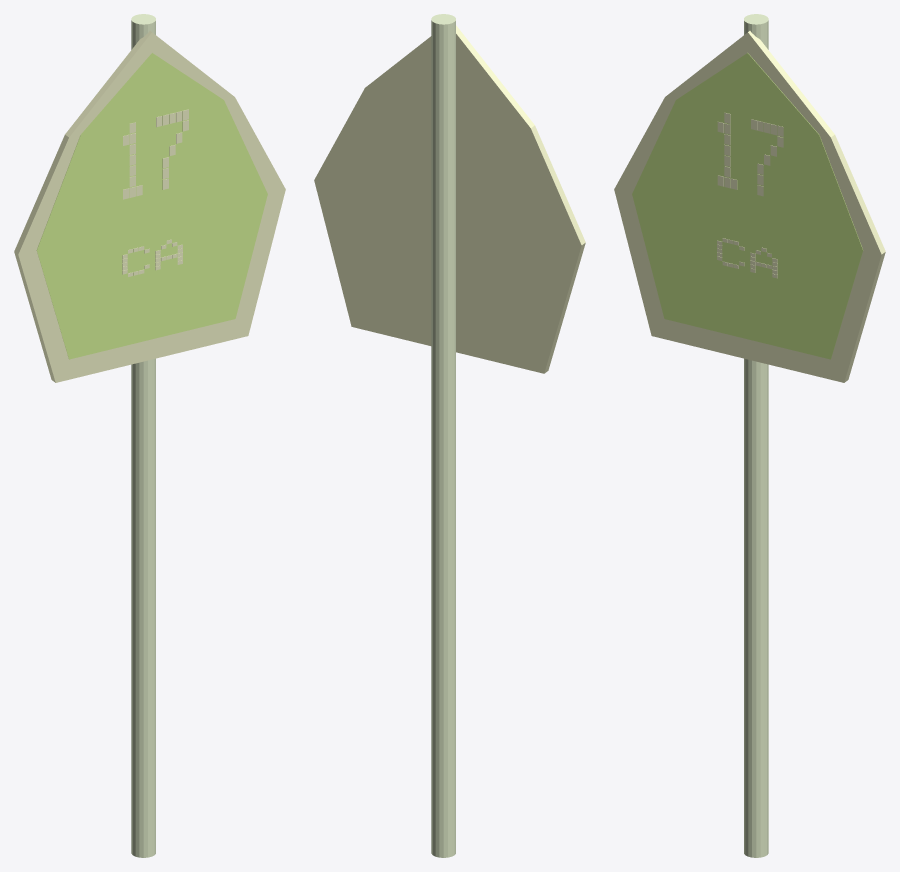
Rendered from sign_route_ca_17_shield.glb.
The picture shows the model from 3 angles, left to right: view 1: azimuth 30°, elevation 25°; view 2: azimuth 150°, elevation 25°; view 3: azimuth 330°, elevation 25°; orthographic projection.
Parts seen in each view (by area): view 1: layer_1_00, plate_base_00, pole; view 2: plate_base_00, pole; view 3: layer_1_00, plate_base_00, pole.
Boxes of the visible parts, x1,y1,x2,y2 form: layer_1_00: (36,53,267,359); plate_base_00: (14,31,285,382); pole: (131,14,155,857); plate_base_00: (314,25,585,373); pole: (431,14,455,857); layer_1_00: (632,53,863,359); plate_base_00: (614,31,885,382); pole: (744,14,768,857).
Bounding box in the file's own units: 0.7392 × 2.2 × 0.0725.
